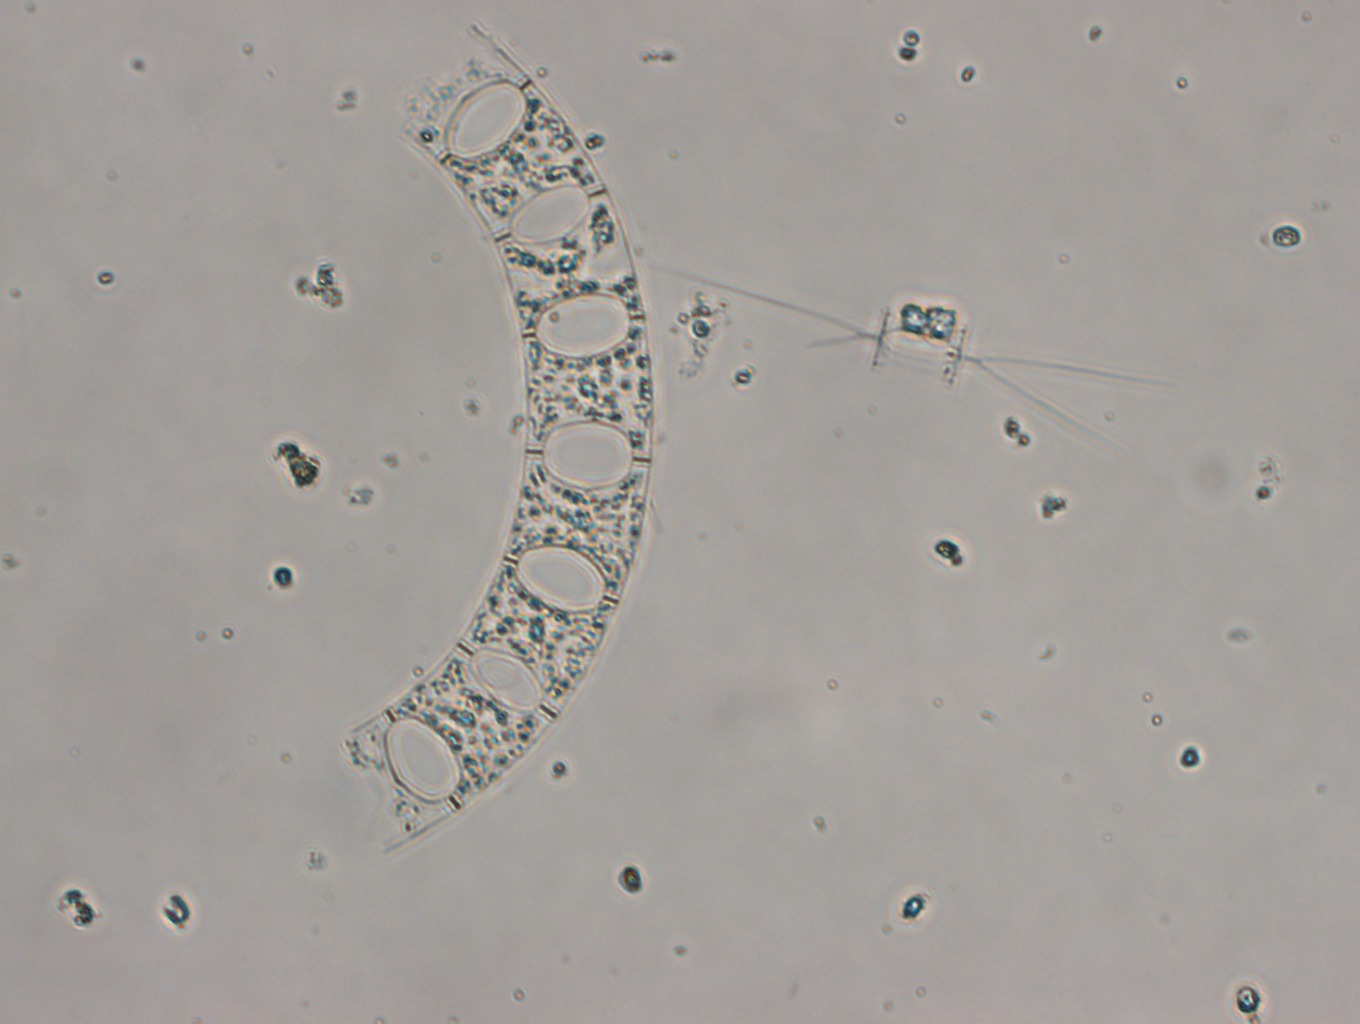chaetoceros: (652, 261, 1178, 455)
eucampia: (340, 24, 655, 850)
